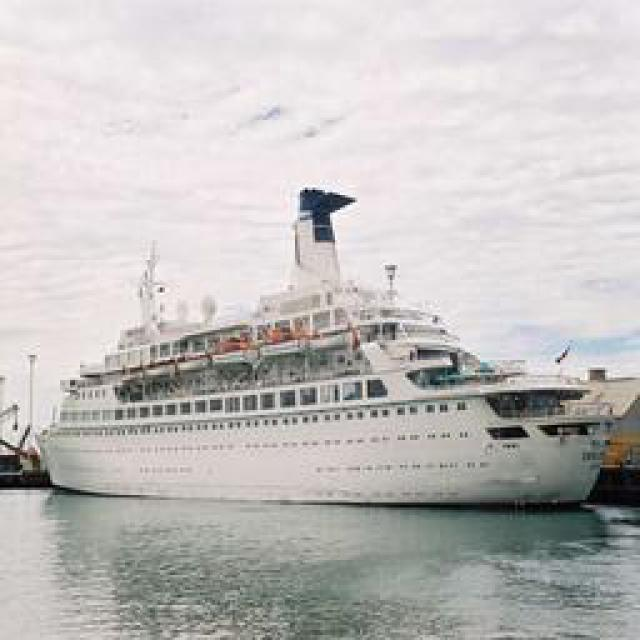Ship: (37, 207, 610, 500)
